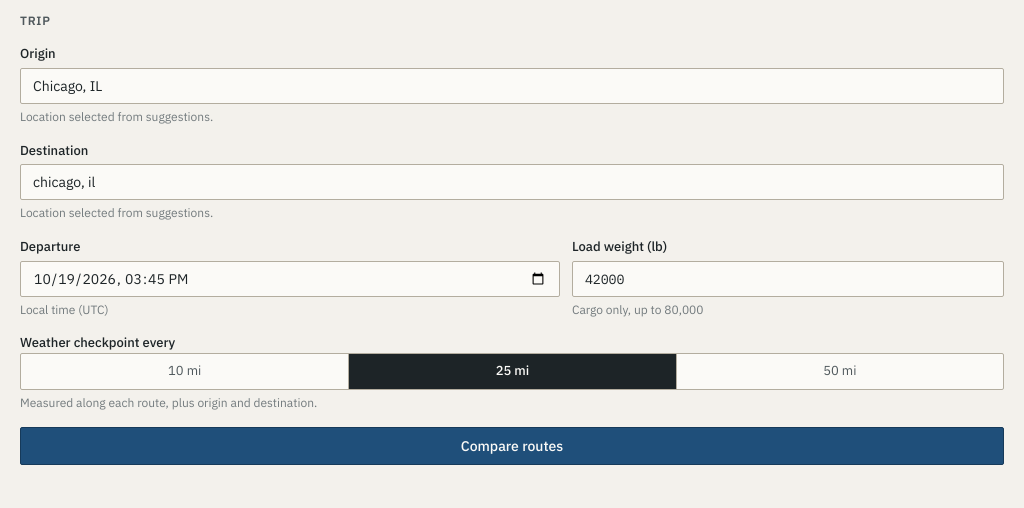
Test case: PlanForm › rejects identical origin and destination
What coordinates should you click on to do the following:
click the button "Compare routes"
I would click on:
 (512, 446)
Its box is [20,427,1004,465].
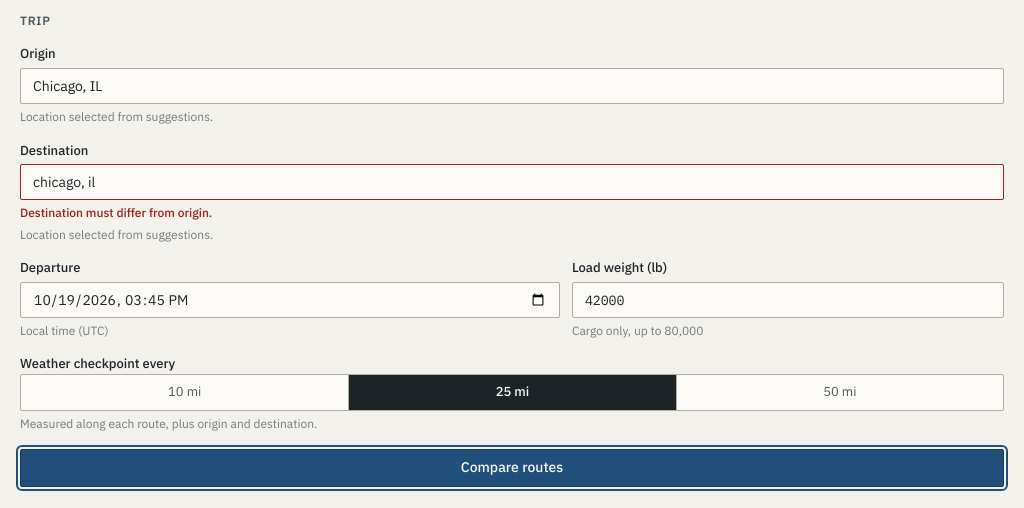
Expected: the text "Destination must differ from origin." is shown, [20,206,212,220]
